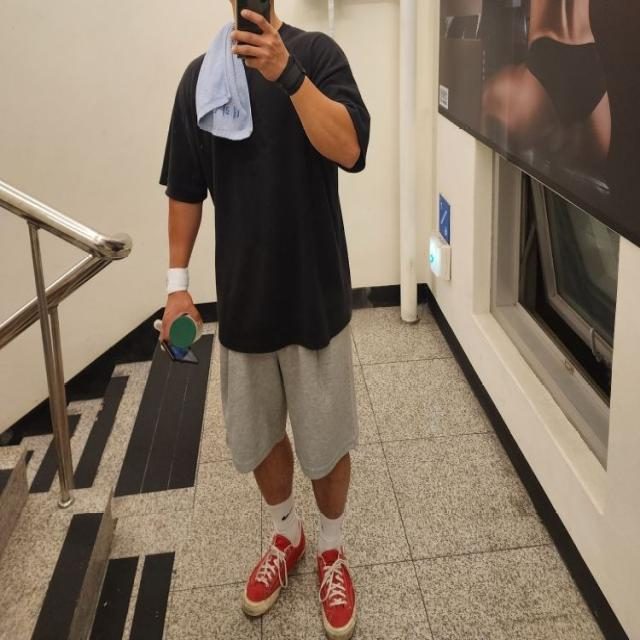shortpants: (222, 322, 359, 477)
shortsleeve: (159, 34, 372, 354)
